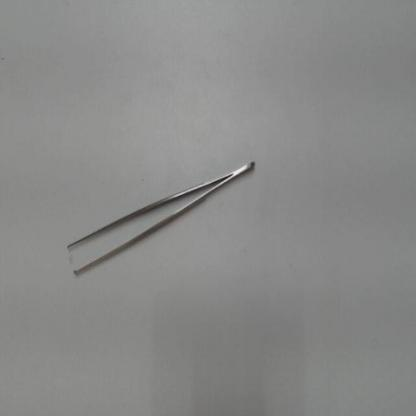Gillies Toothed Dissector: (53, 152, 260, 283)
